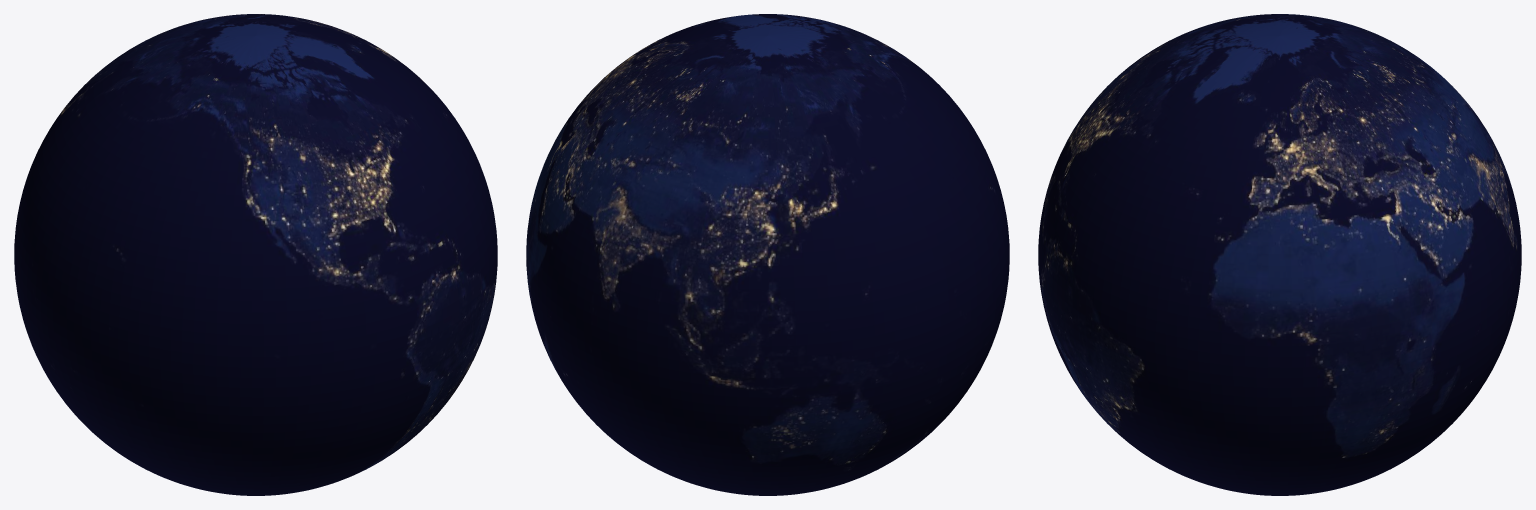
File: ball.glb
3 renders of one model, left to right at view 1: azimuth 30°, elevation 25°; view 2: azimuth 150°, elevation 25°; view 3: azimuth 270°, elevation 25°, orthographic.
Parts seen in each view (by area): view 1: ball; view 2: ball; view 3: ball.
Part boxes in pixels (x1,y1,x2,y2): ball: (14,14,497,495); ball: (526,14,1009,495); ball: (1038,14,1521,495).
Bounding box in the file's own units: 0.5 × 0.5 × 0.5.
Materials: 1 (1 with a texture image).
